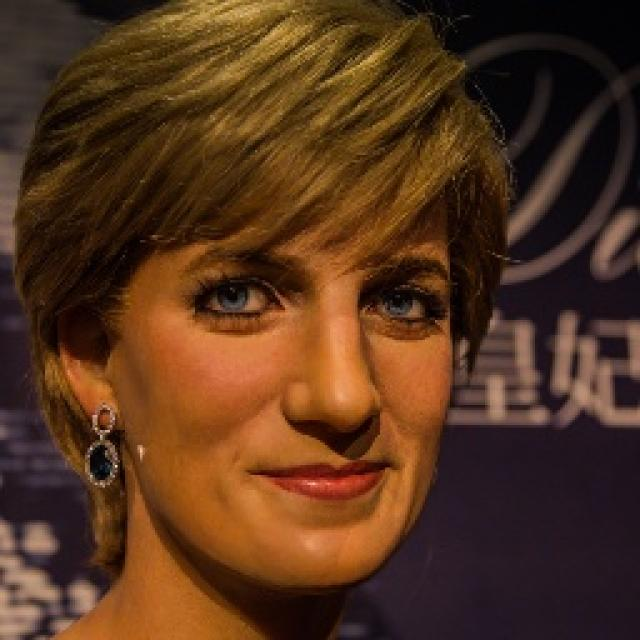earlobe: (45, 173, 110, 317)
